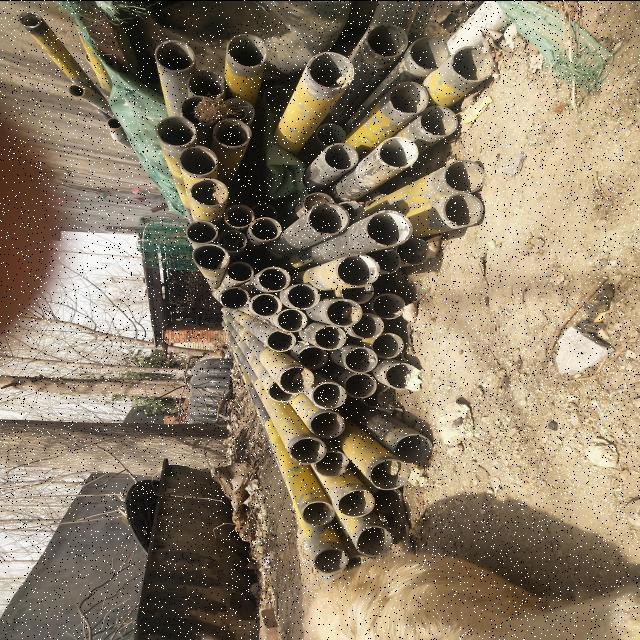pipe: (364, 209, 413, 247), (307, 52, 353, 89), (450, 45, 494, 81), (336, 253, 380, 287), (308, 200, 350, 234), (366, 22, 408, 56), (226, 33, 268, 67), (443, 192, 483, 226), (443, 159, 485, 191), (388, 81, 428, 114), (370, 458, 410, 490), (378, 136, 418, 168), (409, 36, 449, 68), (155, 39, 195, 71), (156, 115, 197, 146), (418, 105, 458, 136), (180, 94, 220, 124), (356, 525, 394, 556), (394, 433, 432, 463), (180, 144, 218, 174), (187, 68, 225, 98), (337, 488, 375, 516), (308, 410, 346, 438), (324, 298, 362, 326), (213, 118, 251, 146), (192, 243, 230, 270), (190, 178, 228, 205), (219, 96, 254, 125), (290, 436, 326, 464), (278, 366, 314, 394), (311, 381, 347, 409), (364, 245, 400, 273), (323, 142, 358, 170), (384, 362, 418, 390), (340, 275, 374, 303), (314, 450, 349, 477), (395, 237, 430, 264), (313, 548, 349, 574), (302, 500, 336, 526), (372, 292, 406, 318), (350, 312, 384, 338), (313, 324, 347, 350), (286, 283, 320, 309), (343, 347, 378, 372), (257, 266, 291, 291), (344, 372, 376, 398), (372, 332, 404, 358), (262, 84, 294, 110), (372, 486, 402, 513), (250, 292, 282, 316), (185, 220, 218, 243), (362, 383, 392, 408), (276, 308, 307, 332), (218, 286, 250, 309), (250, 217, 282, 240), (298, 346, 328, 370), (224, 203, 254, 227), (304, 191, 334, 215), (316, 122, 346, 145), (268, 380, 298, 402), (266, 329, 296, 351), (217, 230, 247, 252), (226, 260, 254, 282), (250, 203, 278, 223), (18, 10, 42, 28), (68, 84, 85, 96), (107, 117, 121, 128)
